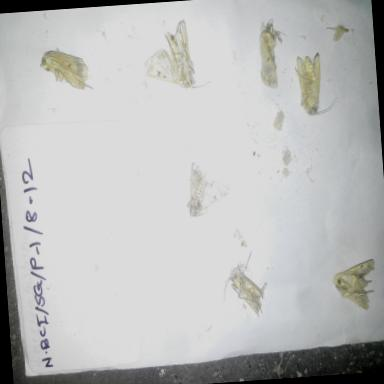abw: (136, 8, 214, 98), (289, 44, 341, 122), (220, 247, 272, 323), (246, 14, 292, 96), (38, 39, 91, 98), (328, 255, 380, 314), (181, 154, 216, 222)
